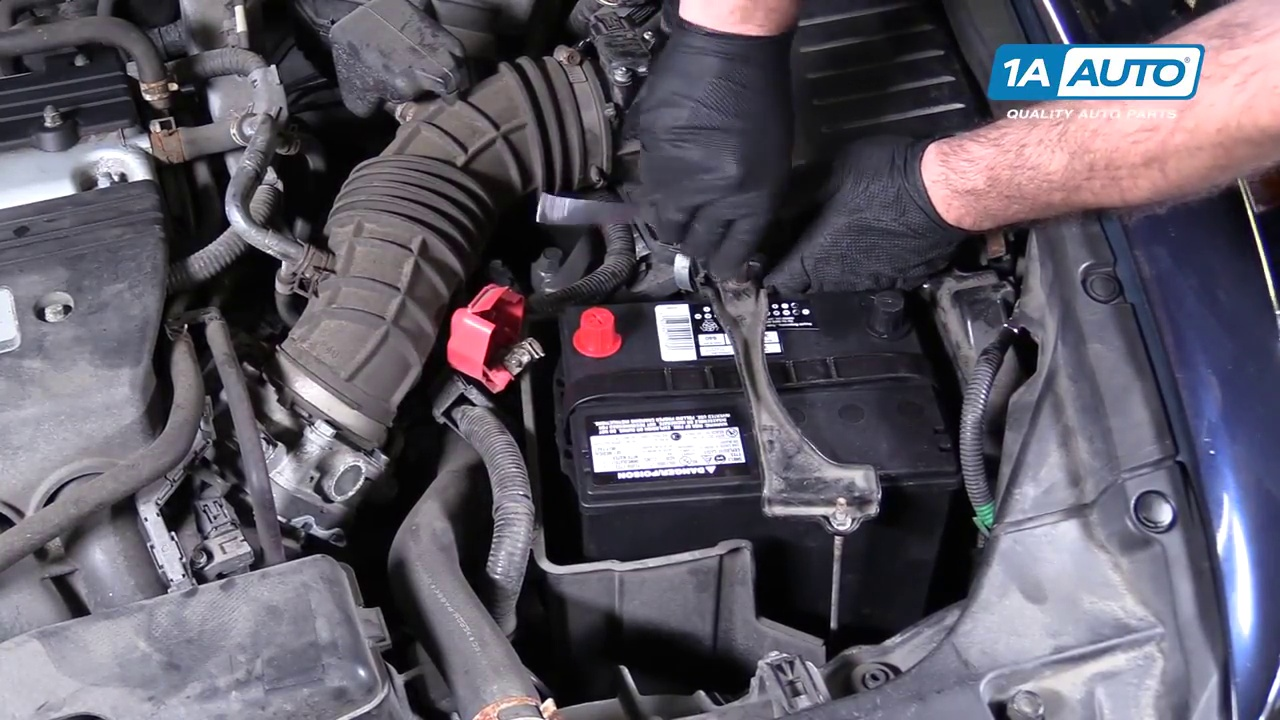battery: (558, 285, 952, 498)
pos_disconnected: (428, 274, 653, 392)
